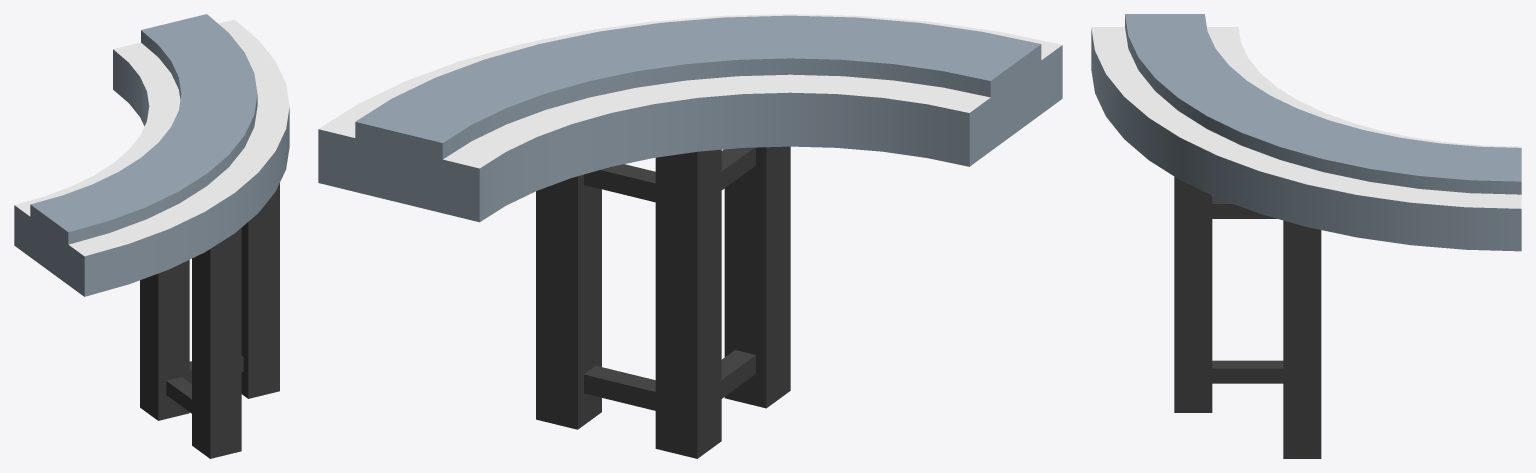
Rendered from monorailTrack_cornerSmall_exclusive.fbx.
The picture shows the model from 3 angles, left to right: view 1: azimuth 30°, elevation 25°; view 2: azimuth 150°, elevation 25°; view 3: azimuth 270°, elevation 25°; orthographic projection. The views are drawn at different scales.
Parts seen in each view (by area): view 1: monorailTrack_cornerSmall_exclusive; view 2: monorailTrack_cornerSmall_exclusive; view 3: monorailTrack_cornerSmall_exclusive.
Boxes of the visible parts, left/top/right/bottom form: monorailTrack_cornerSmall_exclusive: left=14, top=14, right=289, bottom=458; monorailTrack_cornerSmall_exclusive: left=318, top=14, right=1062, bottom=458; monorailTrack_cornerSmall_exclusive: left=1091, top=14, right=1521, bottom=458.
Bounding box in the file's own units: 6.03 × 4.61 × 6.03.
